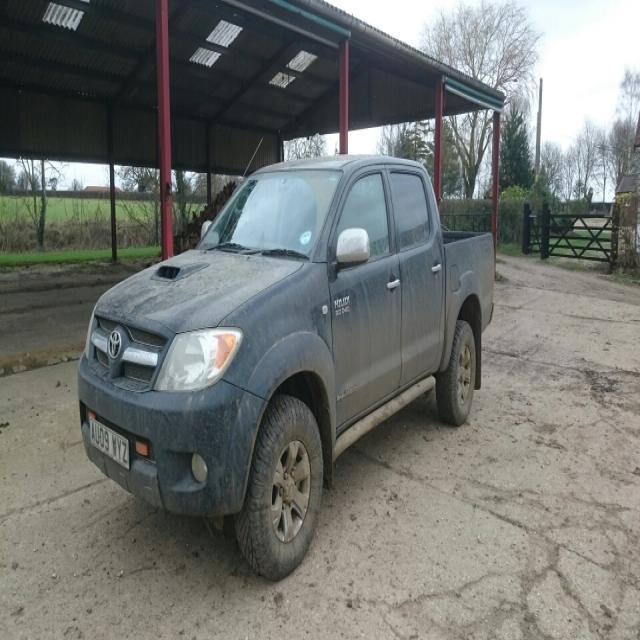light_vehicle: (70, 138, 502, 586)
